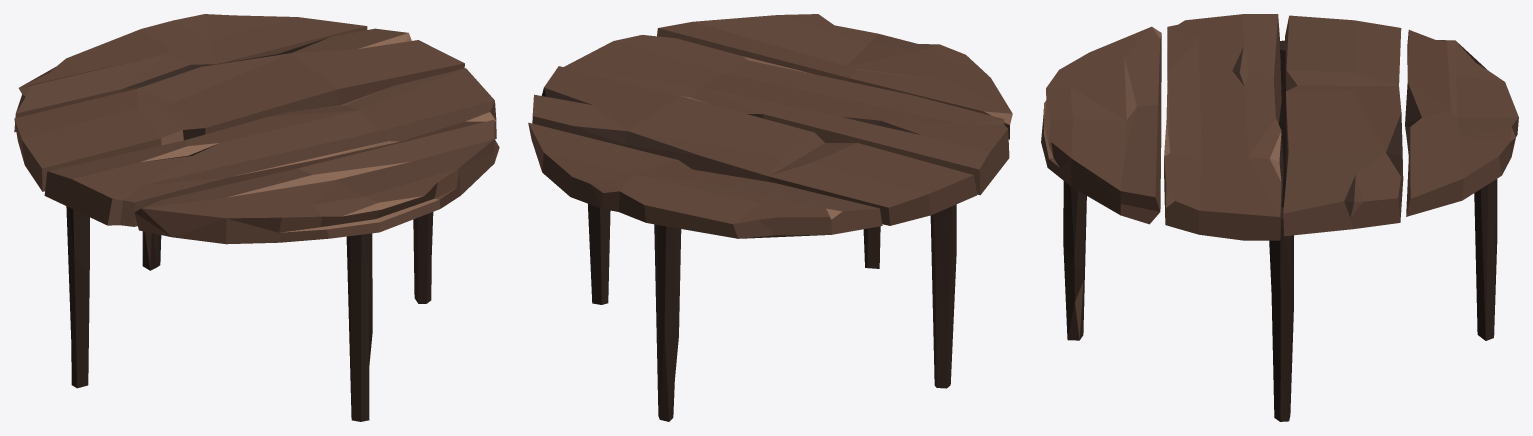
The model's file is TableWood_02.glb.
3 renders of one model, left to right at view 1: azimuth 30°, elevation 25°; view 2: azimuth 150°, elevation 25°; view 3: azimuth 270°, elevation 25°, orthographic.
Visible parts, largest first — view 1: TableWood_02; view 2: TableWood_02; view 3: TableWood_02.
Boxes of the visible parts, x1,y1,x2,y2 form: TableWood_02: [14, 14, 499, 421]; TableWood_02: [528, 14, 1012, 421]; TableWood_02: [1041, 14, 1518, 421].
Size of what is drawn, in the model's own units: 1.96 by 1.03 by 1.94.
Materials: 1 (1 with a texture image).
